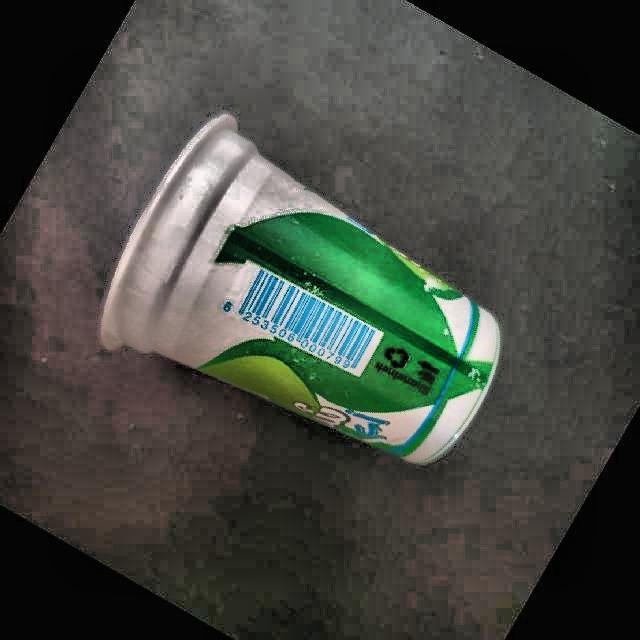plastic: (101, 116, 500, 462)
